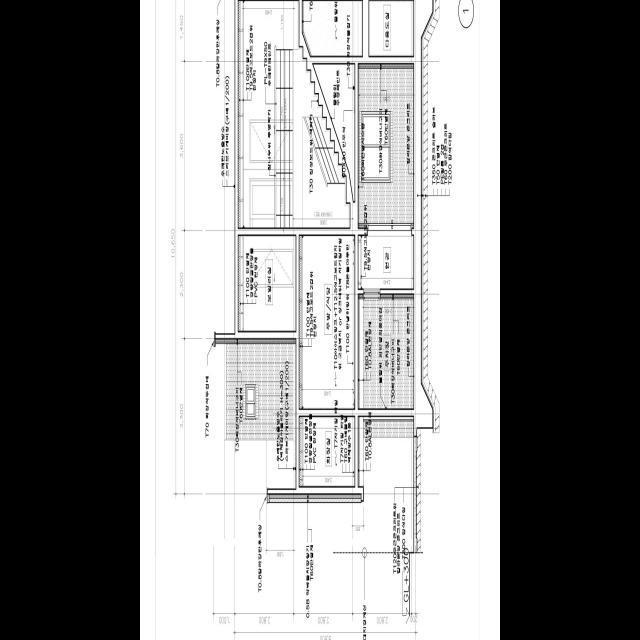background: (140, 0, 500, 640)
space_front: (358, 235, 414, 288)
space_kitchen: (299, 235, 355, 409)
space_multipurpose_space: (369, 0, 414, 56)
space_other: (358, 294, 414, 408), (313, 64, 355, 201), (238, 235, 296, 331), (302, 0, 362, 56)
space_staircase: (238, 0, 353, 227)
space_toilet: (299, 416, 355, 486)
